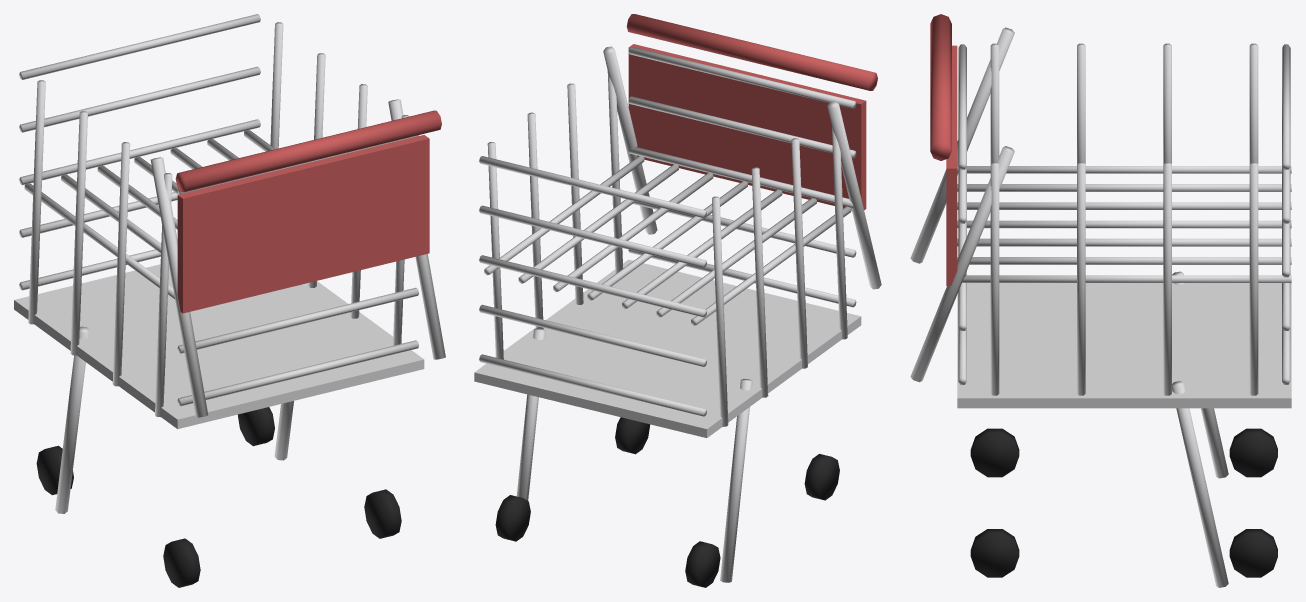
The model's file is WK_PRP_ShoppingCart.glb.
3 views of the same model, side by side, from view 1: azimuth 30°, elevation 25°; view 2: azimuth 150°, elevation 25°; view 3: azimuth 270°, elevation 25° (orthographic). The views are drawn at different scales.
Parts seen in each view (by area): view 1: WK_PRP_ShoppingCart_P27, WK_PRP_ShoppingCart_P26, WK_PRP_ShoppingCart_P28, WK_PRP_ShoppingCart_P29, WK_PRP_ShoppingCart_P16, WK_PRP_ShoppingCart_P30, WK_PRP_ShoppingCart_P21, WK_PRP_ShoppingCart_P20, WK_PRP_ShoppingCart_P19, WK_PRP_ShoppingCart_P11, WK_PRP_ShoppingCart_P09, WK_PRP_ShoppingCart_P14 (+17 smaller); view 2: WK_PRP_ShoppingCart_P26, WK_PRP_ShoppingCart_P27, WK_PRP_ShoppingCart_P28, WK_PRP_ShoppingCart_P29, WK_PRP_ShoppingCart_P30, WK_PRP_ShoppingCart_P14, WK_PRP_ShoppingCart_P10, WK_PRP_ShoppingCart_P08, WK_PRP_ShoppingCart_P12, WK_PRP_ShoppingCart_P16, WK_PRP_ShoppingCart_P17, WK_PRP_ShoppingCart_P20 (+24 smaller); view 3: WK_PRP_ShoppingCart_P26, WK_PRP_ShoppingCart_P28, WK_PRP_ShoppingCart_P31, WK_PRP_ShoppingCart_P32, WK_PRP_ShoppingCart_P05, WK_PRP_ShoppingCart_P04, WK_PRP_ShoppingCart_P29, WK_PRP_ShoppingCart_P07, WK_PRP_ShoppingCart_P25, WK_PRP_ShoppingCart_P22, WK_PRP_ShoppingCart_P06, WK_PRP_ShoppingCart_P02 (+17 smaller).
Part boxes in pixels (x1,y1,x2,y2): WK_PRP_ShoppingCart_P27: (177,135,429,313); WK_PRP_ShoppingCart_P26: (14,264,424,429); WK_PRP_ShoppingCart_P28: (175,110,441,192); WK_PRP_ShoppingCart_P29: (150,157,208,417); WK_PRP_ShoppingCart_P16: (19,14,260,79); WK_PRP_ShoppingCart_P30: (55,326,89,513); WK_PRP_ShoppingCart_P21: (28,80,45,324); WK_PRP_ShoppingCart_P20: (70,111,87,355); WK_PRP_ShoppingCart_P19: (112,142,130,386); WK_PRP_ShoppingCart_P11: (177,287,418,353); WK_PRP_ShoppingCart_P09: (177,340,418,406); WK_PRP_ShoppingCart_P14: (19,66,260,132); WK_PRP_ShoppingCart_P26: (474,259,861,437); WK_PRP_ShoppingCart_P27: (628,44,866,210); WK_PRP_ShoppingCart_P28: (626,14,877,90); WK_PRP_ShoppingCart_P29: (827,101,881,289); WK_PRP_ShoppingCart_P30: (720,379,752,582); WK_PRP_ShoppingCart_P14: (479,205,706,267); WK_PRP_ShoppingCart_P10: (479,304,706,366); WK_PRP_ShoppingCart_P08: (479,354,706,416); WK_PRP_ShoppingCart_P12: (479,255,706,317); WK_PRP_ShoppingCart_P16: (479,156,706,217); WK_PRP_ShoppingCart_P17: (628,46,856,108); WK_PRP_ShoppingCart_P20: (751,167,768,397); WK_PRP_ShoppingCart_P26: (957,283,1291,408); WK_PRP_ShoppingCart_P28: (930,14,951,160); WK_PRP_ShoppingCart_P31: (910,146,1014,382); WK_PRP_ShoppingCart_P32: (1172,381,1228,587); WK_PRP_ShoppingCart_P05: (957,238,1291,246); WK_PRP_ShoppingCart_P04: (957,220,1291,228); WK_PRP_ShoppingCart_P29: (910,27,1014,263); WK_PRP_ShoppingCart_P07: (962,275,1291,282); WK_PRP_ShoppingCart_P25: (1249,162,1258,395); WK_PRP_ShoppingCart_P22: (990,162,999,395); WK_PRP_ShoppingCart_P06: (957,257,1291,264); WK_PRP_ShoppingCart_P02: (957,184,1291,191).
Bounding box in the file's own units: 0.56 × 0.9282 × 0.707.
